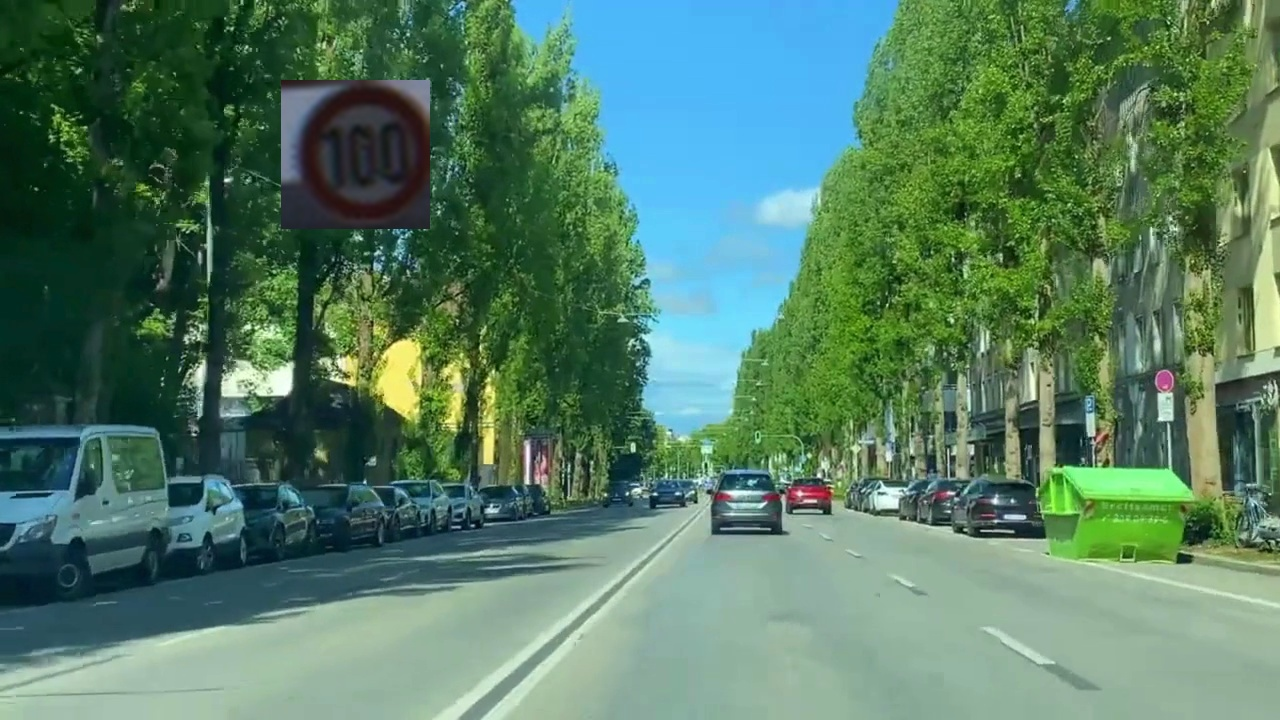Speed 100: (281, 80, 430, 229)
